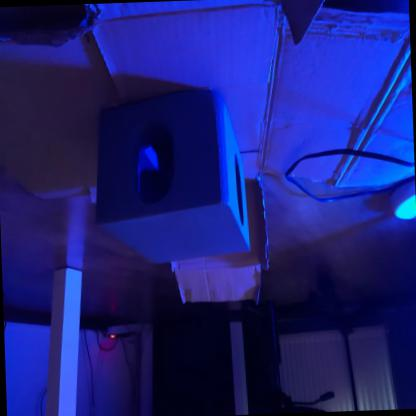CornerCasting: (93, 81, 256, 274)
